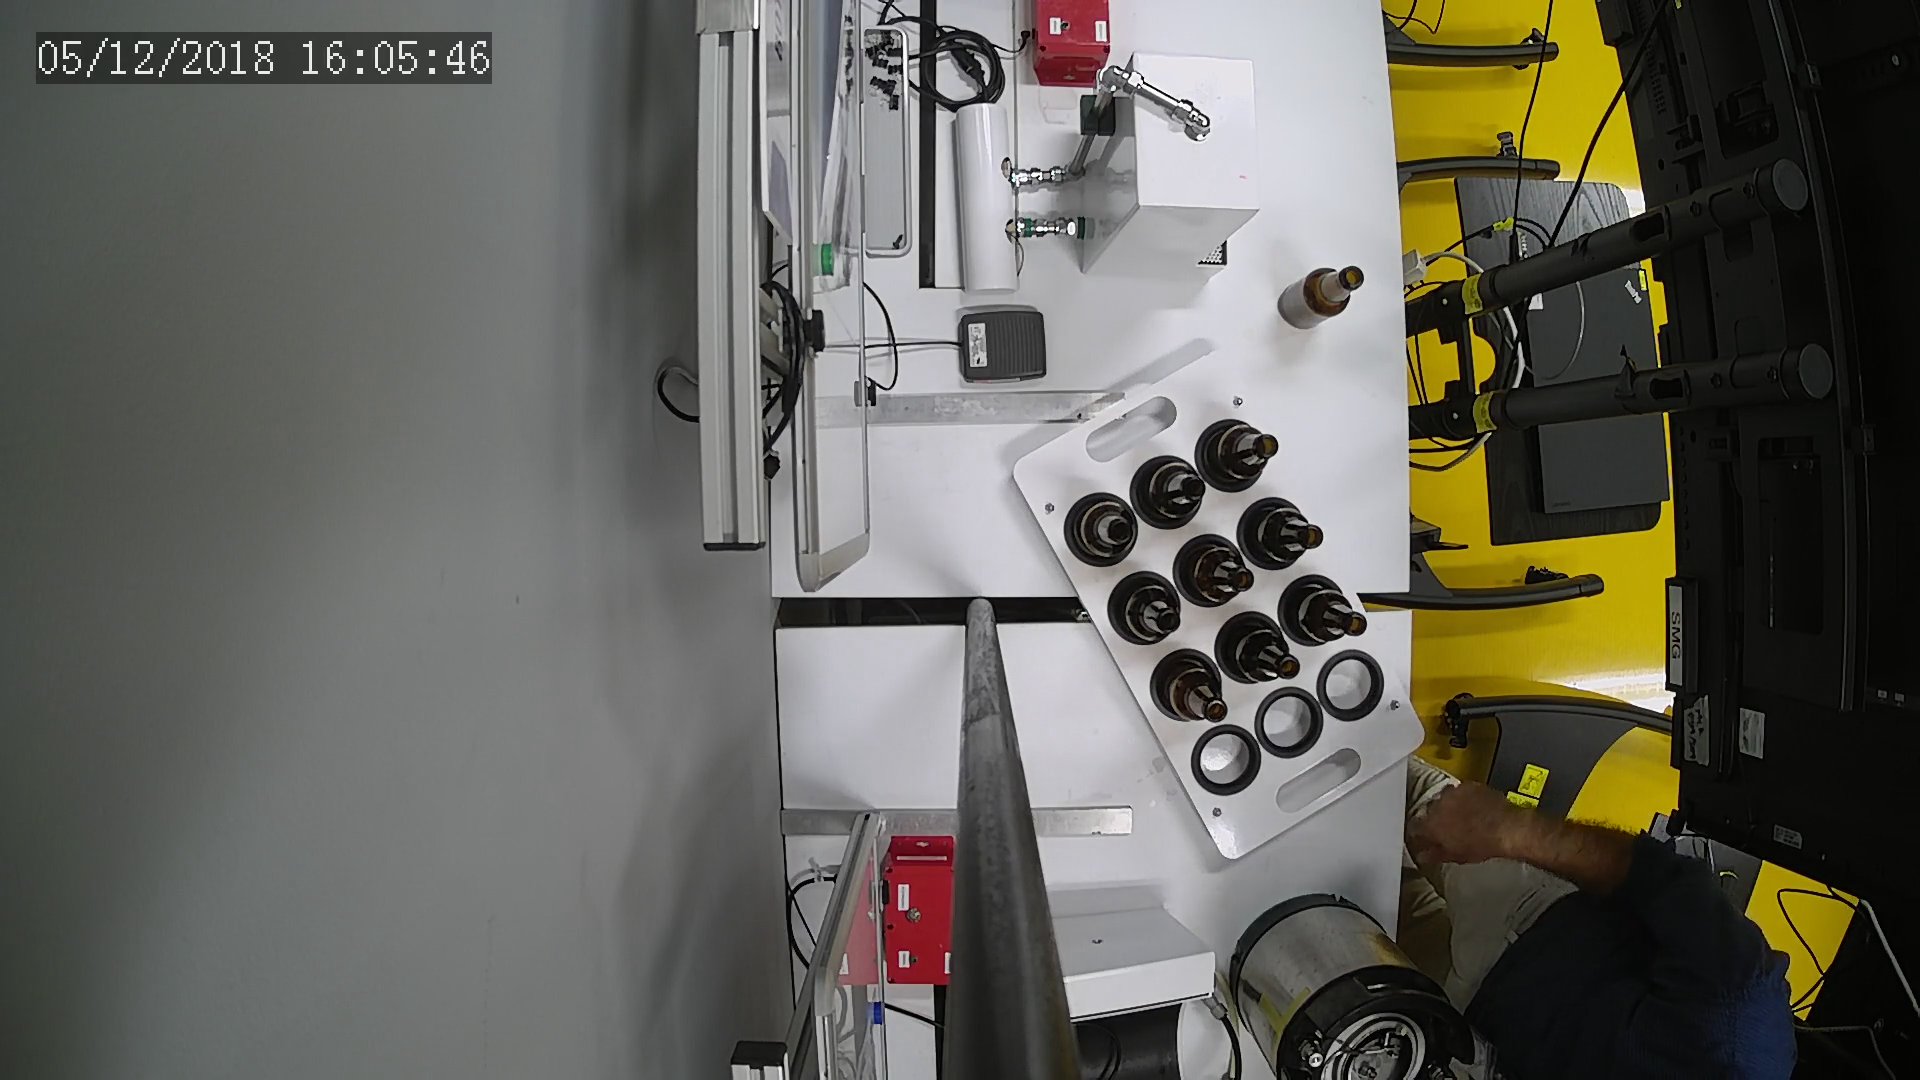filled_bottle: (1149, 651, 1241, 736), (1212, 613, 1312, 688), (1274, 576, 1370, 653), (1191, 418, 1280, 498), (1237, 497, 1329, 574), (1108, 574, 1191, 655), (1062, 491, 1145, 570), (1133, 455, 1212, 535), (1176, 541, 1258, 613)
trolley: (1011, 351, 1429, 865)
unfilled_bottle: (1276, 262, 1370, 334)
